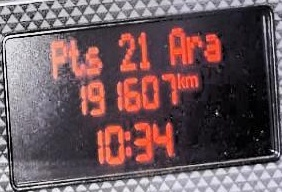0: (104, 123, 122, 165), (140, 72, 158, 114)
1: (137, 29, 152, 70), (95, 126, 103, 168), (115, 75, 123, 114), (79, 81, 86, 119)
2: (118, 29, 137, 72)
3: (132, 121, 151, 161)
4: (152, 119, 173, 157)
6: (123, 76, 139, 112)
7: (160, 72, 175, 105)
9: (86, 80, 105, 119)
X: (166, 22, 185, 67), (48, 35, 66, 82), (65, 37, 84, 79), (203, 29, 223, 64), (84, 42, 100, 76), (185, 30, 201, 63), (123, 125, 133, 163), (184, 72, 199, 88), (174, 68, 185, 89)
